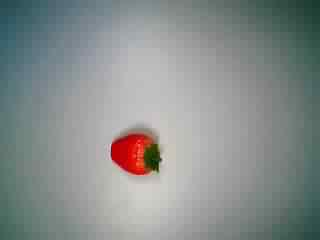strawberry: (99, 120, 167, 184)
